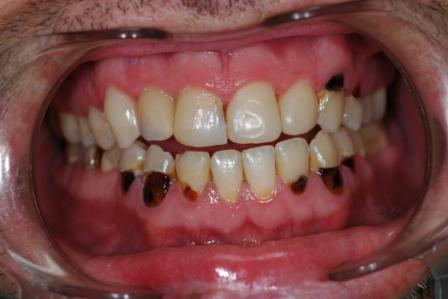LL1BC_sdecay: (336, 130, 355, 172)
LL2BC_mdecay: (355, 132, 378, 164)
LLCI_healthy: (244, 146, 276, 204)
LLC_sdecay: (309, 133, 345, 198)
LLLI_sdecay: (276, 138, 309, 196)
LR1BC_sdecay: (119, 142, 143, 192)
LR1M_mdecay: (83, 148, 101, 173)
LR2BC_mdecay: (103, 150, 117, 176)
LR2M_mdecay: (64, 147, 81, 166)
LRCI_healthy: (213, 152, 245, 207)
LRC_sdecay: (145, 144, 171, 206)
LRLI_sdecay: (175, 151, 212, 204)
UL1BC_sdecay: (344, 86, 362, 135)
UL2BC_healthy: (364, 93, 387, 119)
ULCI_healthy: (227, 82, 282, 144)
ULC_sdecay: (317, 73, 344, 133)
ULLI_healthy: (279, 80, 319, 136)
UR1BC_healthy: (91, 106, 115, 153)
UR1M_healthy: (59, 113, 78, 147)
UR2BC_healthy: (76, 119, 90, 149)
URCI_healthy: (175, 88, 228, 149)
URC_healthy: (105, 87, 142, 149)
URLI_healthy: (137, 90, 174, 143)
